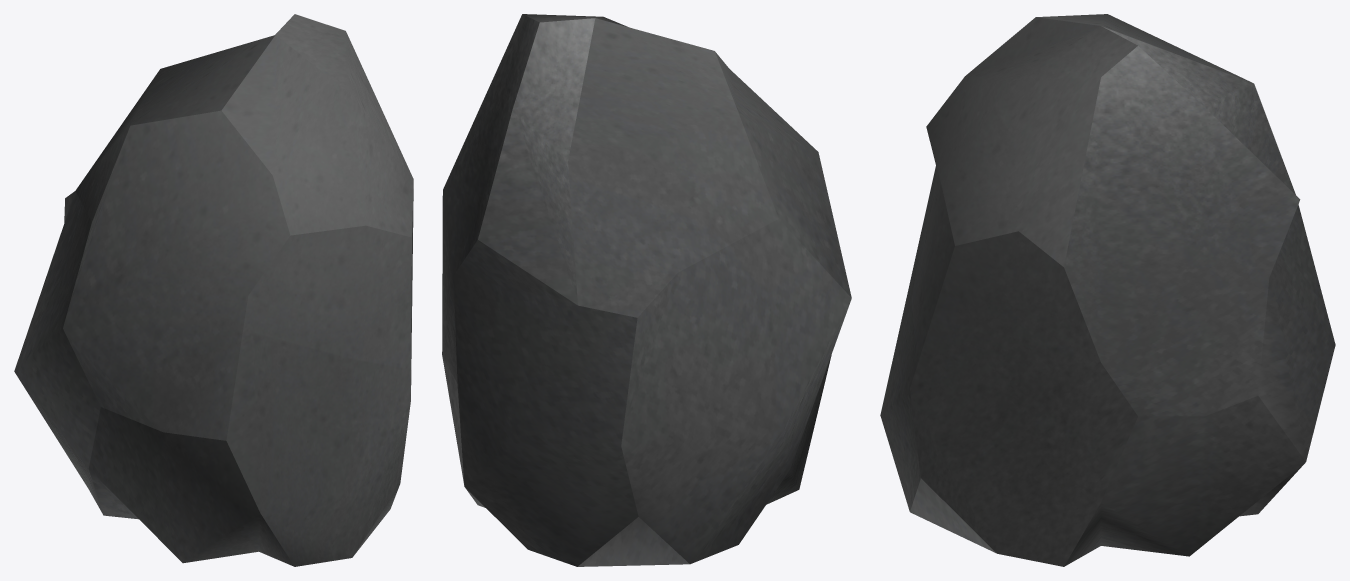
File: storn 1.fbx
The picture shows the model from 3 angles, left to right: view 1: azimuth 30°, elevation 25°; view 2: azimuth 150°, elevation 25°; view 3: azimuth 270°, elevation 25°; orthographic projection. The views are drawn at different scales.
Parts seen in each view (by area): view 1: pPlatonic1; view 2: pPlatonic1; view 3: pPlatonic1.
Part boxes in pixels (left/top/right/bottom): pPlatonic1: left=14, top=14, right=413, bottom=566; pPlatonic1: left=442, top=14, right=851, bottom=566; pPlatonic1: left=880, top=14, right=1335, bottom=566.
Bounding box in the file's own units: 11.03 × 13.59 × 11.39.
